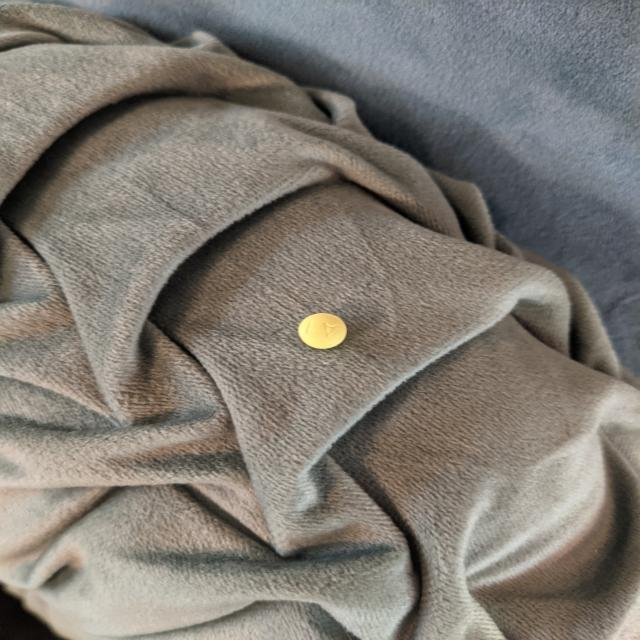non-organic waste: (296, 312, 349, 350)
